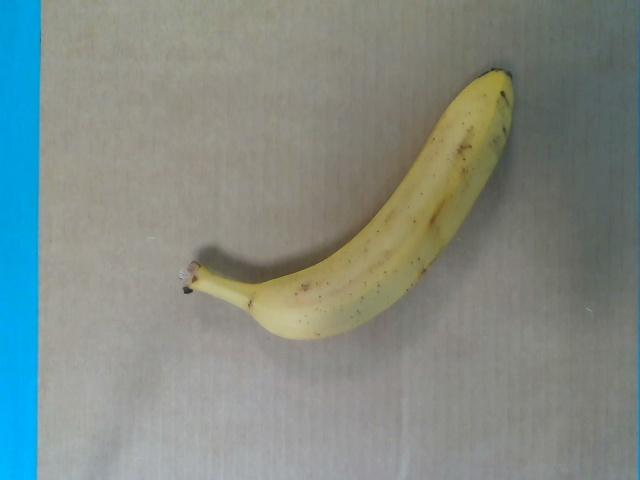banana: (180, 67, 513, 342)
